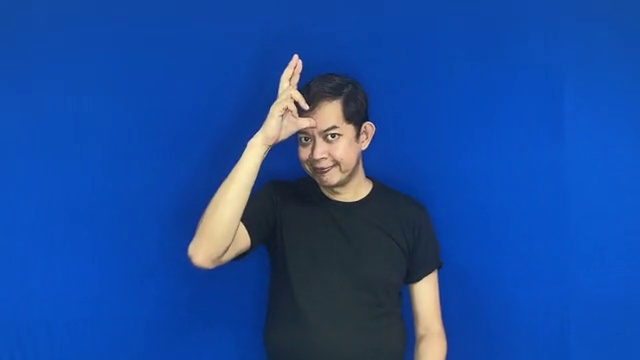chicken: (260, 46, 320, 150)
